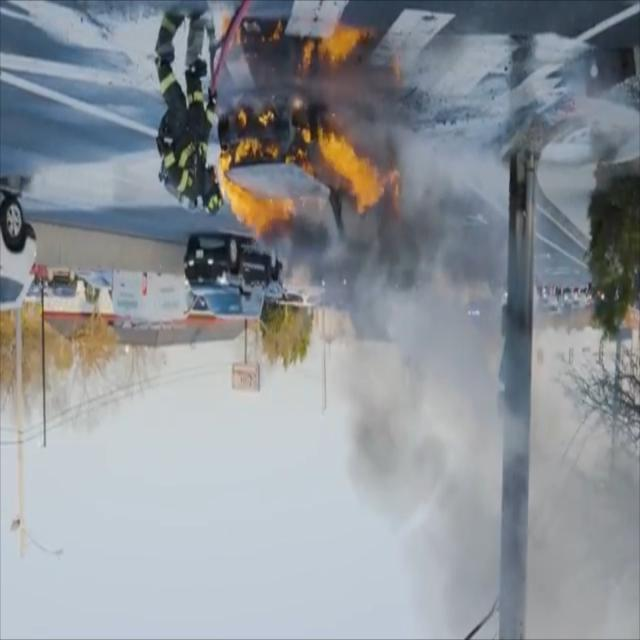fire: (216, 100, 402, 266), (232, 27, 368, 72)
